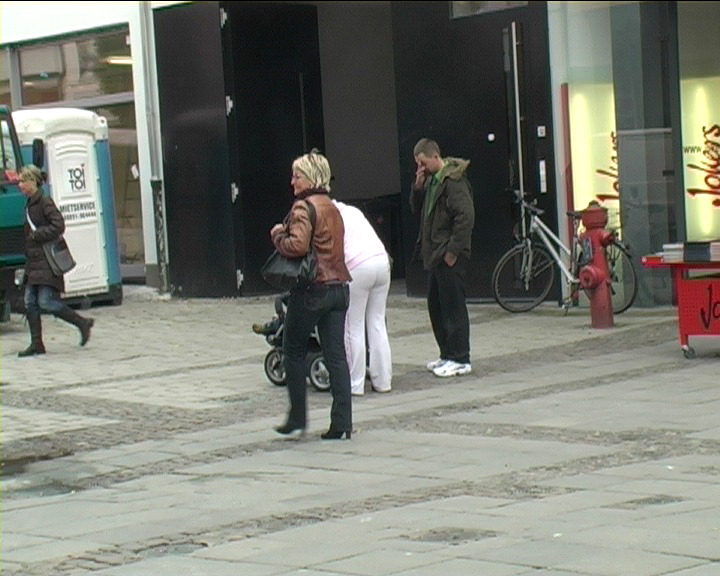deflection: (280, 157, 352, 238)
